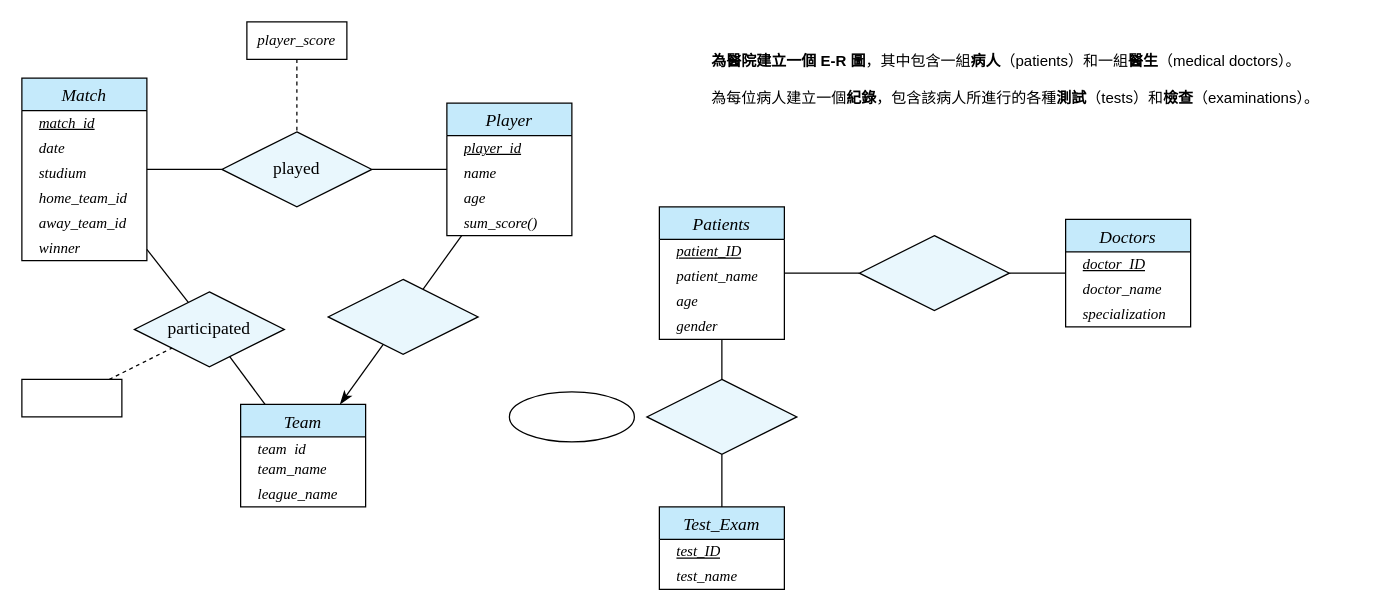
Image size: 1394x611. Some labels were removed from this diagram. Each missing label, with the centre of its shape:
"Attribute" goes at (571,416).
"service" goes at (402,316).
"take" goes at (721,416).
"team_score" goes at (71,397).
"treat" goes at (933,272).
